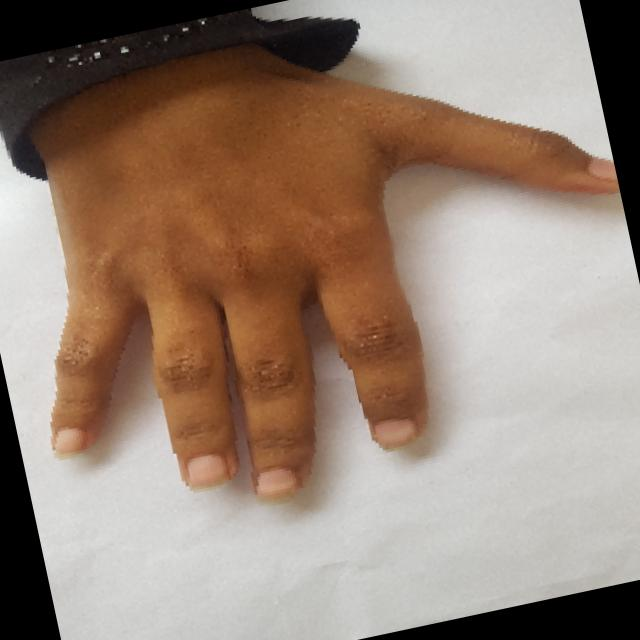Nail: (186, 453, 230, 487), (372, 417, 417, 449), (256, 468, 299, 501), (52, 426, 87, 456), (588, 157, 617, 179)
